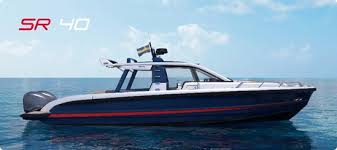boat: (20, 41, 317, 126)
